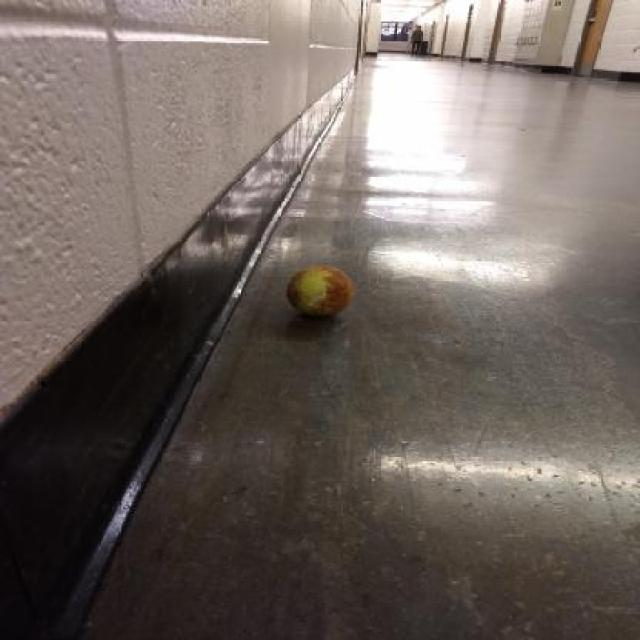Tennis_Ball: (292, 266, 354, 317)
